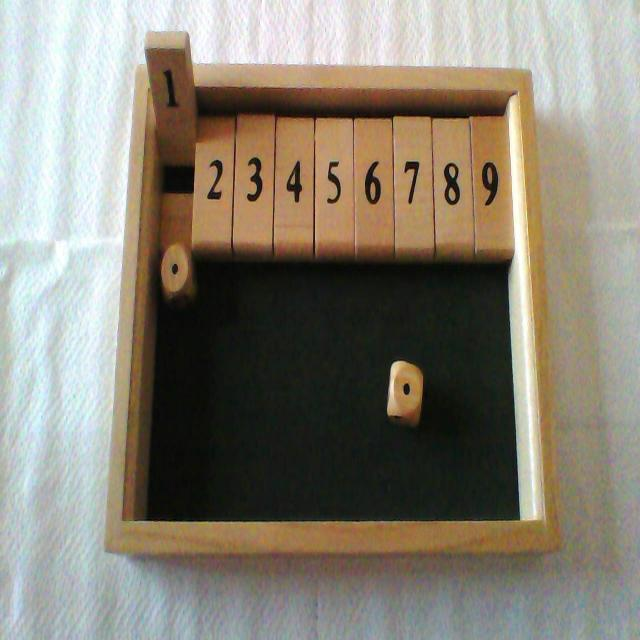1: (384, 355, 426, 427), (159, 241, 193, 301)
C2: (193, 64, 235, 249)
C3: (234, 64, 274, 254)
C4: (276, 64, 313, 255)
C5: (318, 65, 352, 256)
C6: (355, 66, 392, 257)
C7: (394, 65, 432, 258)
C8: (434, 68, 472, 260)
C9: (470, 68, 512, 258)
O1: (145, 31, 193, 238)
